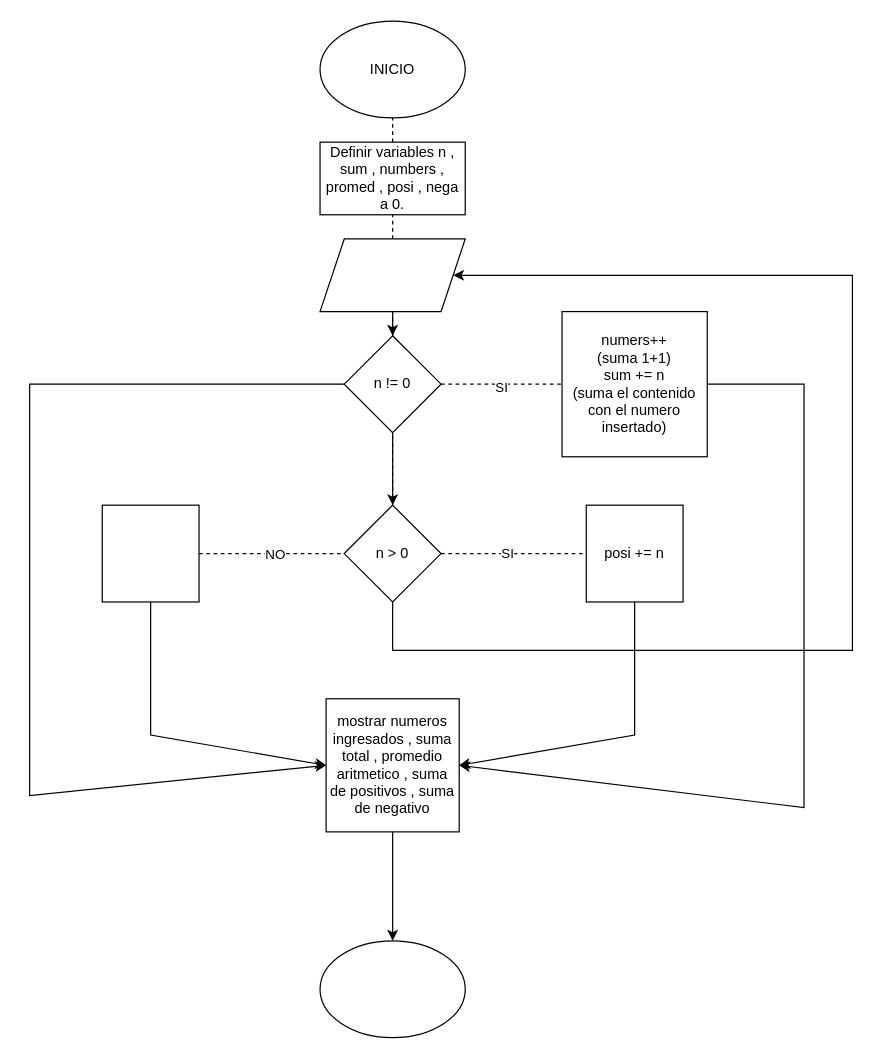
Image size: 883x1059. Some labels were removed from this diagram. The box of each missing label's shape, as (x1, y1, x2, y2) in pixels:
FINAL: (319, 940, 465, 1038)
n (inserta n): (319, 238, 465, 312)
nega += n: (101, 504, 199, 602)
